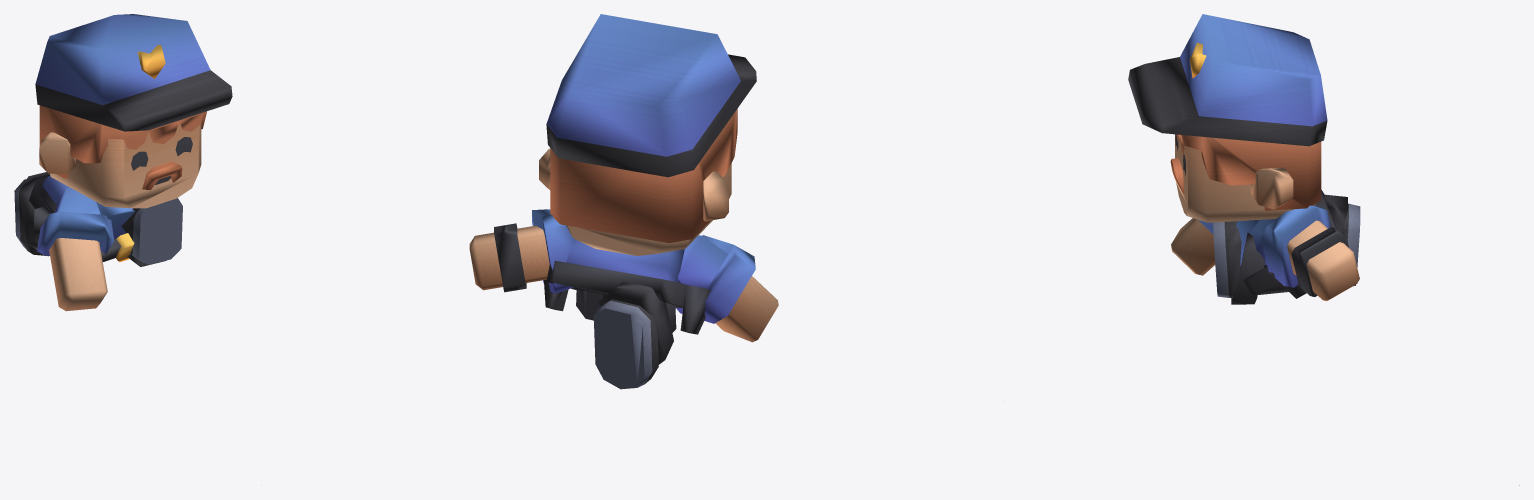
File: leader_sprint_2.glb
3 views of the same model, side by side, from view 1: azimuth 30°, elevation 25°; view 2: azimuth 150°, elevation 25°; view 3: azimuth 270°, elevation 25° (orthographic). The views are drawn at different scales.
Visible parts, largest first — view 1: leader-sprint-2; view 2: leader-sprint-2; view 3: leader-sprint-2.
Part boxes in pixels (x1,y1,x2,y2): leader-sprint-2: (14,14,232,311); leader-sprint-2: (469,14,778,389); leader-sprint-2: (1128,14,1519,485).
Bounding box in the file's own units: 1.2 × 0.9516 × 1.2.
1 material, 1 textured.
